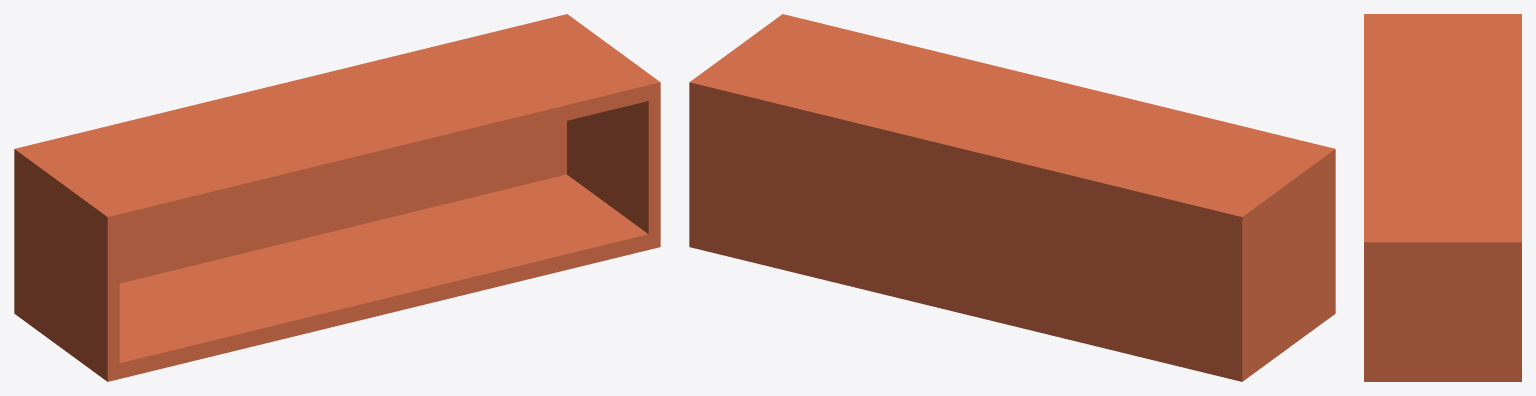
The model's file is ShelfLong.fbx.
3 views of the same model, side by side, from view 1: azimuth 30°, elevation 25°; view 2: azimuth 150°, elevation 25°; view 3: azimuth 270°, elevation 25° (orthographic). The views are drawn at different scales.
Parts seen in each view (by area): view 1: Shelf; view 2: Shelf; view 3: Shelf.
Part boxes in pixels (bbox=[...]): Shelf: bbox=[14, 14, 660, 381]; Shelf: bbox=[689, 14, 1335, 381]; Shelf: bbox=[1364, 14, 1521, 381].
Bounding box in the file's own units: 222 × 63.24 × 64.87.
